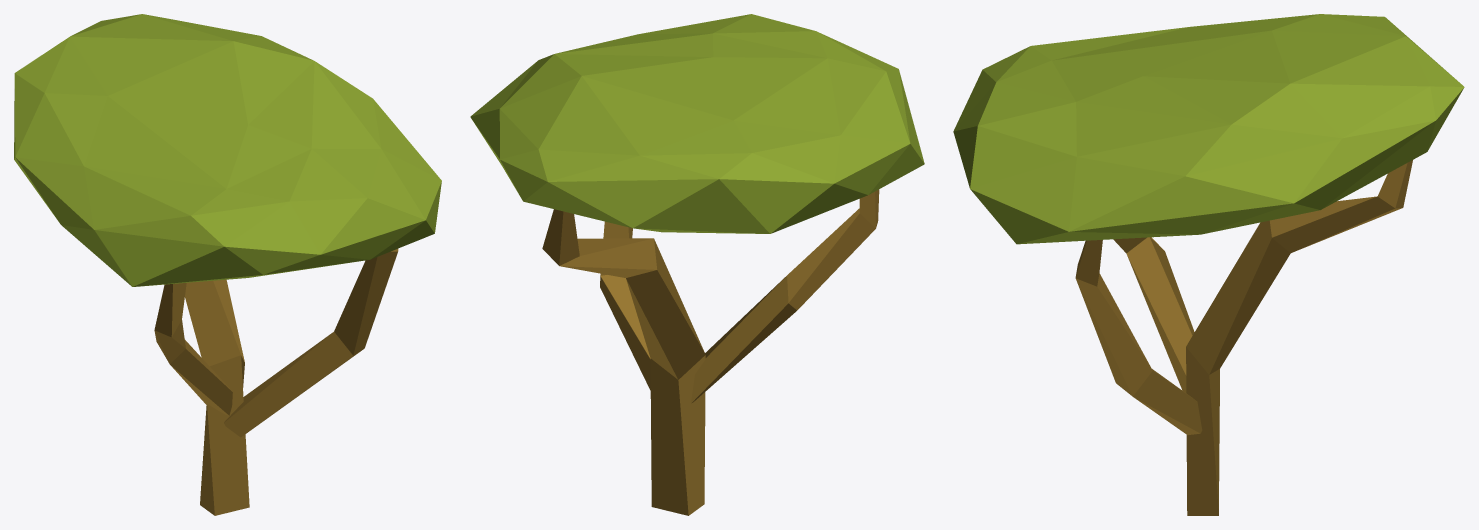
The model's file is AcaciaTree_1.fbx.
The picture shows the model from 3 angles, left to right: view 1: azimuth 30°, elevation 25°; view 2: azimuth 150°, elevation 25°; view 3: azimuth 270°, elevation 25°; orthographic projection. The views are drawn at different scales.
Parts seen in each view (by area): view 1: Leaves, Branch.001, Branch, Branch.002; view 2: Leaves, Branch.001, Branch.002, Branch; view 3: Leaves, Branch.001, Branch, Branch.002.
Boxes of the visible parts, bbox=[...] form: Leaves: bbox=[14, 14, 441, 286]; Branch.001: bbox=[185, 279, 249, 515]; Branch: bbox=[224, 249, 398, 437]; Branch.002: bbox=[154, 283, 232, 415]; Leaves: bbox=[470, 14, 924, 233]; Branch.001: bbox=[542, 209, 705, 515]; Branch.002: bbox=[691, 189, 879, 403]; Branch: bbox=[600, 221, 650, 390]; Leaves: bbox=[953, 14, 1464, 244]; Branch.001: bbox=[1186, 160, 1412, 515]; Branch: bbox=[1075, 240, 1202, 435]; Branch.002: bbox=[1113, 237, 1194, 392].
Size of the model in its own units: 336 by 409 by 422.
